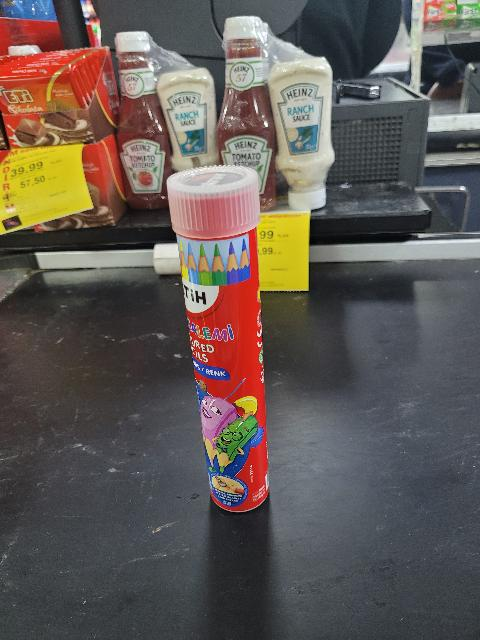Metal: (176, 239, 293, 519)
Plastik: (167, 164, 258, 238)
